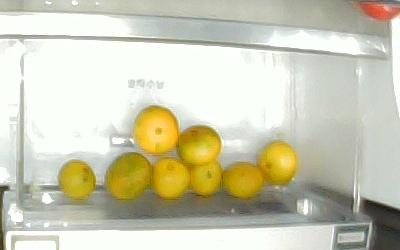tangerine: (133, 105, 179, 155), (105, 151, 151, 200), (176, 124, 221, 165), (256, 141, 296, 187), (57, 159, 96, 200), (221, 161, 263, 199), (152, 157, 189, 199), (189, 159, 221, 197)
